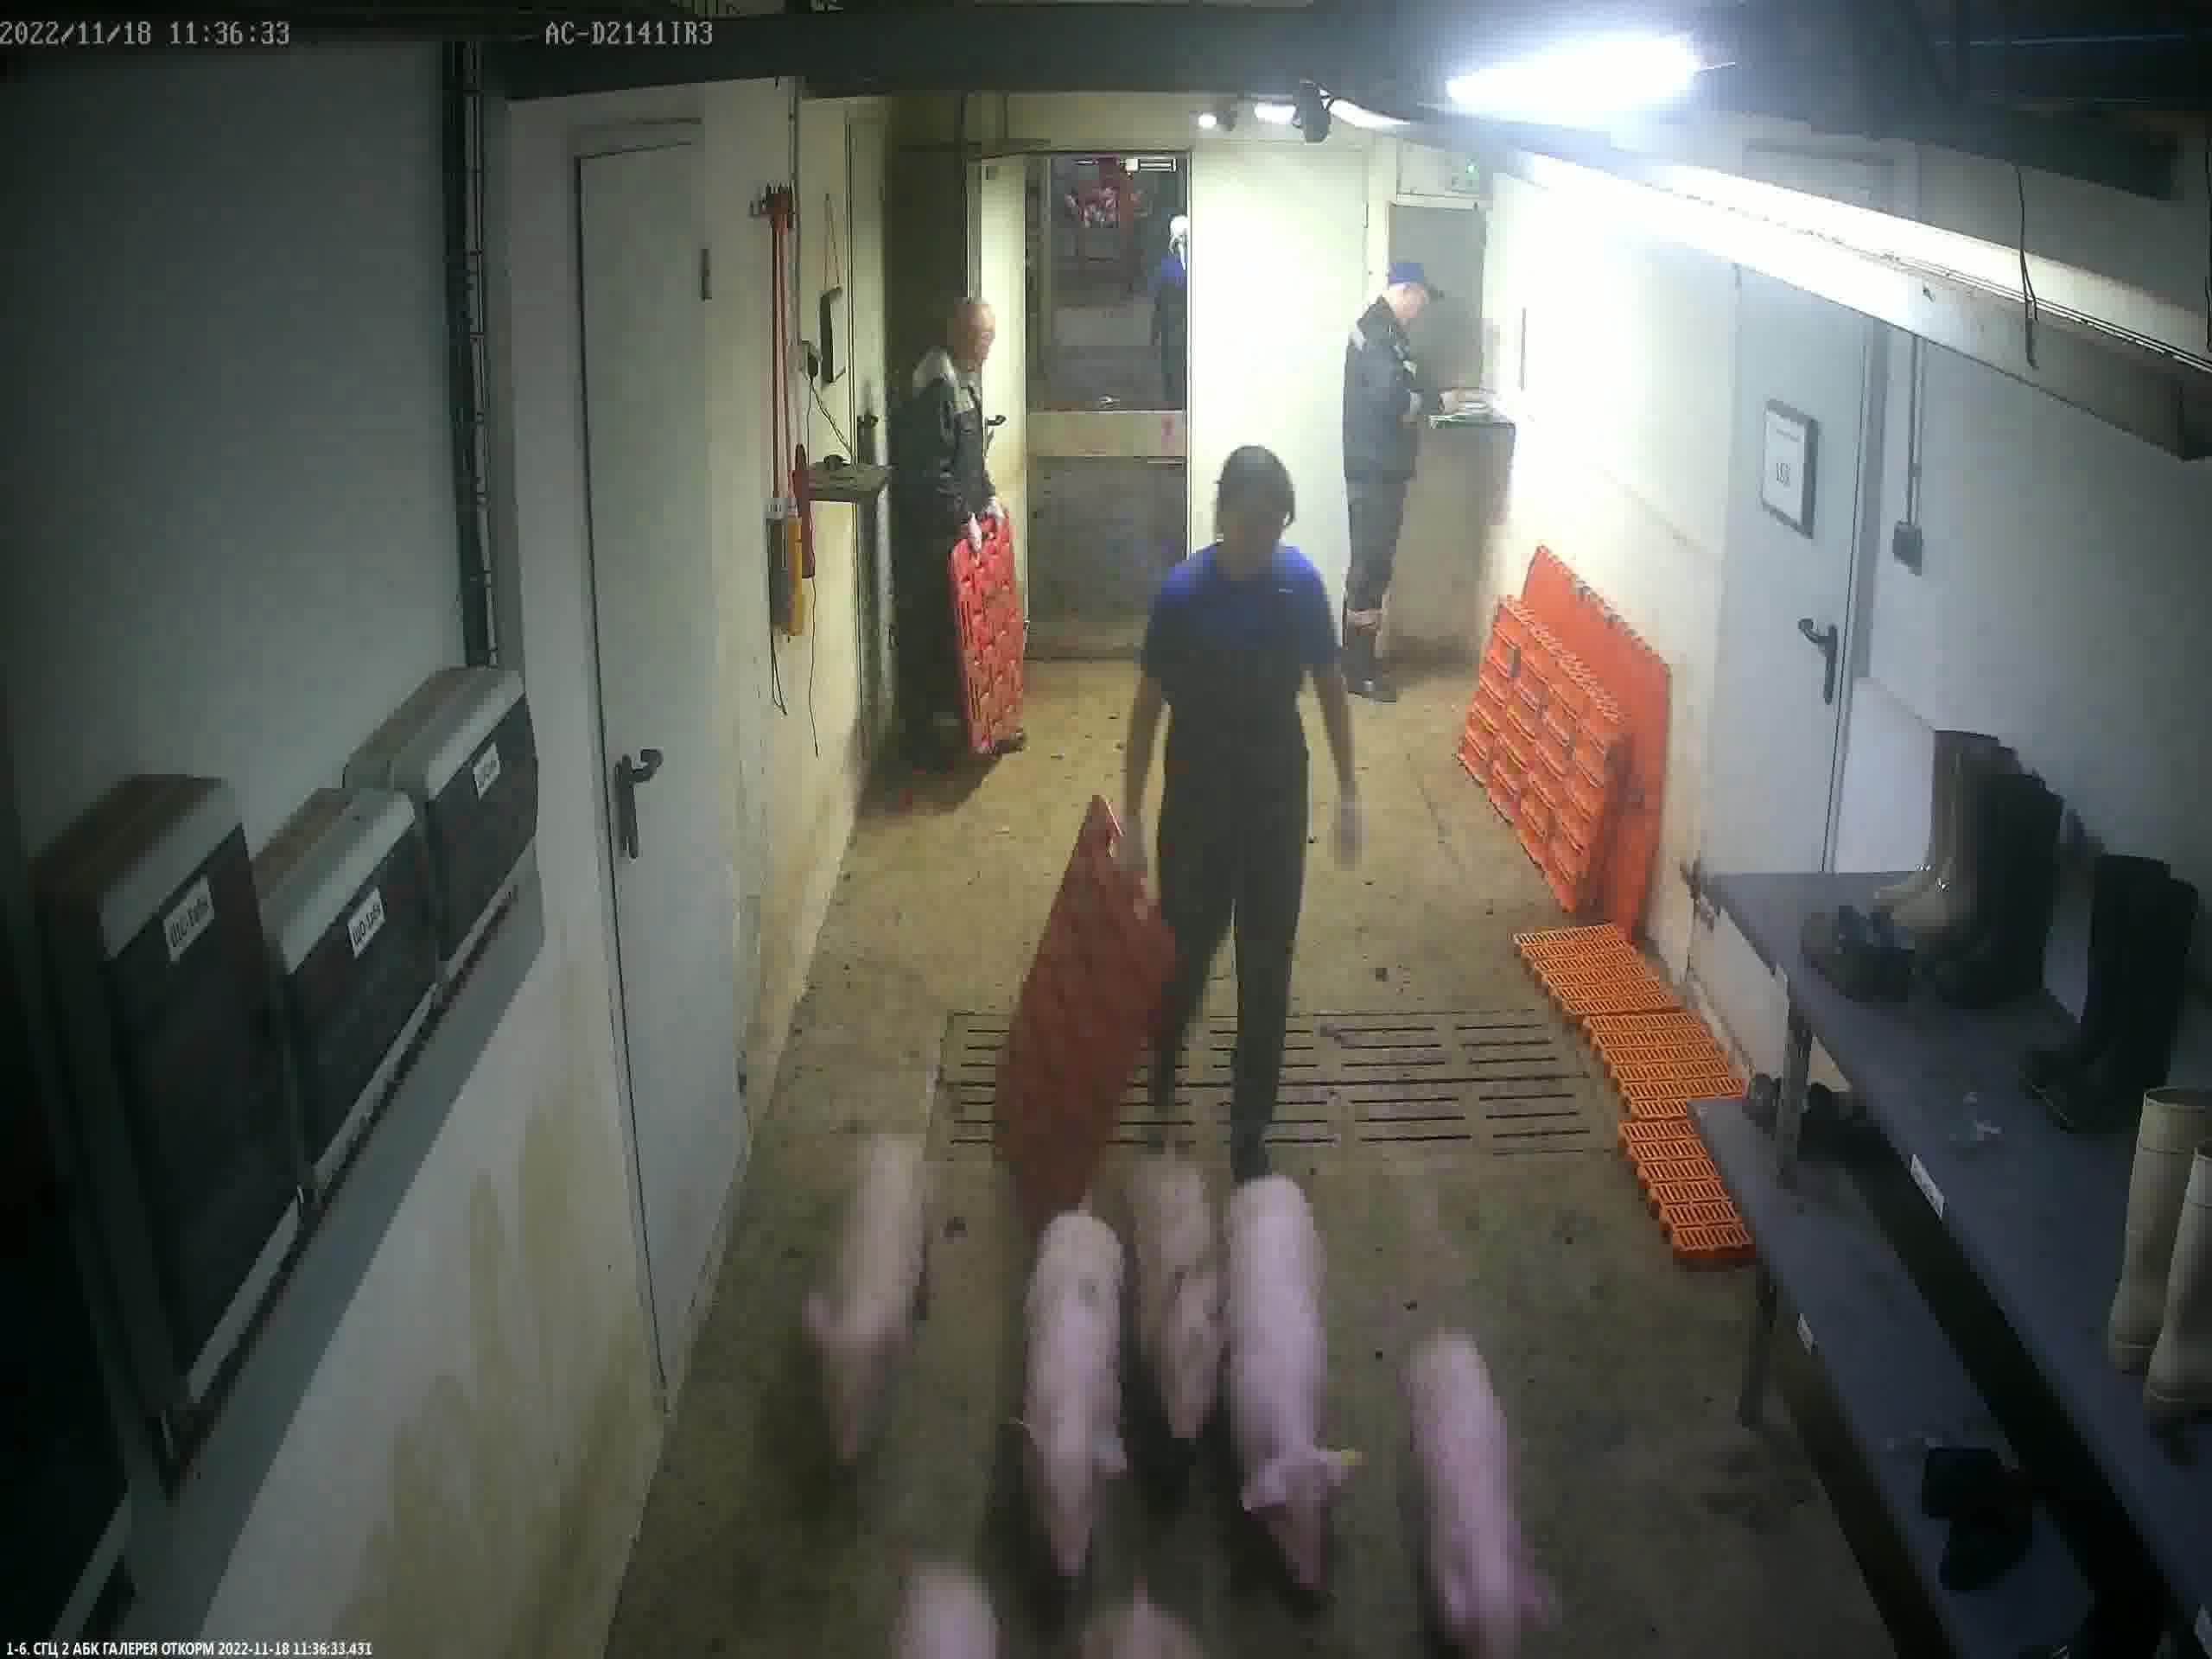Pigs: (1230, 1178, 1353, 1601), (1409, 1333, 1559, 1659), (1021, 1208, 1130, 1593), (819, 1140, 939, 1469), (1137, 1155, 1228, 1452), (909, 1575, 996, 1659), (1092, 1603, 1197, 1659)
